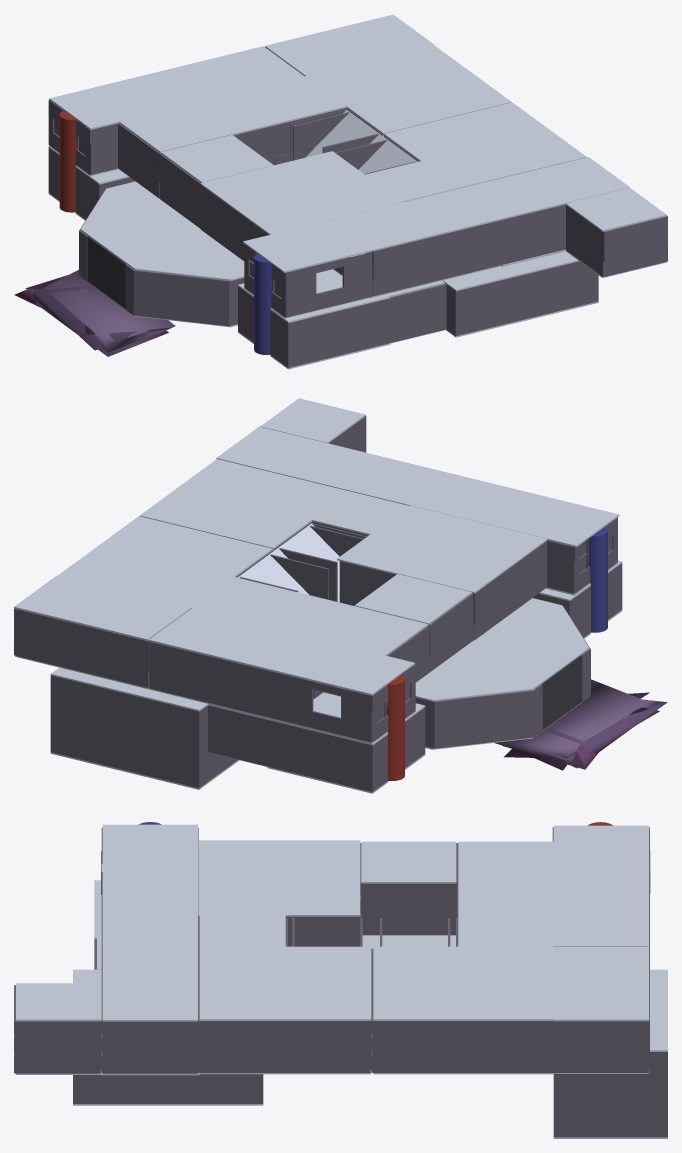
Rendered from Thallasic.glb.
The picture shows the model from 3 angles, top to bottom: view 1: azimuth 30°, elevation 25°; view 2: azimuth 150°, elevation 25°; view 3: azimuth 270°, elevation 25°; orthographic projection. The views are drawn at different scales.
Parts seen in each view (by area): view 1: GroupedRoom30, GroupedRoom10, GroupedRoom11, GroupedRoom9, GroupedRoom6, GroupedRoom4, GroupedRoom15, GroupedRoom16, GroupedRoom1, GroupedRoom5, rock, GroupedRoom3 (+14 smaller); view 2: GroupedRoom30, GroupedRoom26, GroupedRoom3, GroupedRoom2, GroupedRoom1, GroupedRoom15, GroupedRoom6, GroupedRoom11, rock, GroupedRoom4, GroupedRoom14, GroupedRoom9 (+13 smaller); view 3: GroupedRoom6, GroupedRoom9, GroupedRoom3, GroupedRoom7, GroupedRoom26, GroupedRoom17, GroupedRoom16, GroupedRoom8, GroupedRoom14, GroupedRoom10, GroupedRoom2, GroupedRoom5 (+8 smaller).
Boxes of the visible parts, left/top/right/bottom form: GroupedRoom30: left=79, top=181, right=244, bottom=327; GroupedRoom10: left=333, top=188, right=501, bottom=297; GroupedRoom11: left=243, top=219, right=373, bottom=318; GroupedRoom9: left=461, top=157, right=629, bottom=266; GroupedRoom6: left=346, top=45, right=511, bottom=135; GroupedRoom4: left=118, top=94, right=274, bottom=198; GroupedRoom15: left=200, top=166, right=341, bottom=260; GroupedRoom16: left=565, top=187, right=667, bottom=277; GroupedRoom1: left=48, top=77, right=175, bottom=176; GroupedRoom5: left=233, top=62, right=401, bottom=164; rock: left=14, top=270, right=175, bottom=356; GroupedRoom3: left=265, top=14, right=434, bottom=76; GroupedRoom30: left=415, top=598, right=590, bottom=749; GroupedRoom26: left=50, top=667, right=239, bottom=789; GroupedRoom3: left=14, top=575, right=190, bottom=689; GroupedRoom2: left=149, top=608, right=325, bottom=721; GroupedRoom1: left=282, top=641, right=415, bottom=743; GroupedRoom15: left=400, top=521, right=547, bottom=641; GroupedRoom6: left=58, top=516, right=273, bottom=593; GroupedRoom11: left=483, top=491, right=619, bottom=595; rock: left=494, top=679, right=667, bottom=770; GroupedRoom4: left=266, top=595, right=429, bottom=682; GroupedRoom14: left=337, top=505, right=472, bottom=605; GroupedRoom9: left=216, top=426, right=392, bottom=490; GroupedRoom6: left=371, top=946, right=553, bottom=1074; GroupedRoom9: left=100, top=947, right=199, bottom=1075; GroupedRoom3: left=549, top=947, right=649, bottom=1073; GroupedRoom7: left=284, top=946, right=371, bottom=1074; GroupedRoom26: left=553, top=969, right=667, bottom=1138; GroupedRoom17: left=360, top=841, right=457, bottom=935; GroupedRoom16: left=14, top=983, right=101, bottom=1074; GroupedRoom8: left=198, top=983, right=285, bottom=1074; GroupedRoom14: left=198, top=880, right=360, bottom=946; GroupedRoom10: left=101, top=875, right=198, bottom=948; GroupedRoom2: left=553, top=874, right=649, bottom=948; GroupedRoom5: left=457, top=906, right=553, bottom=978.
Size of what is drawn, in the model's own units: 65.14 by 16.67 by 68.64.
